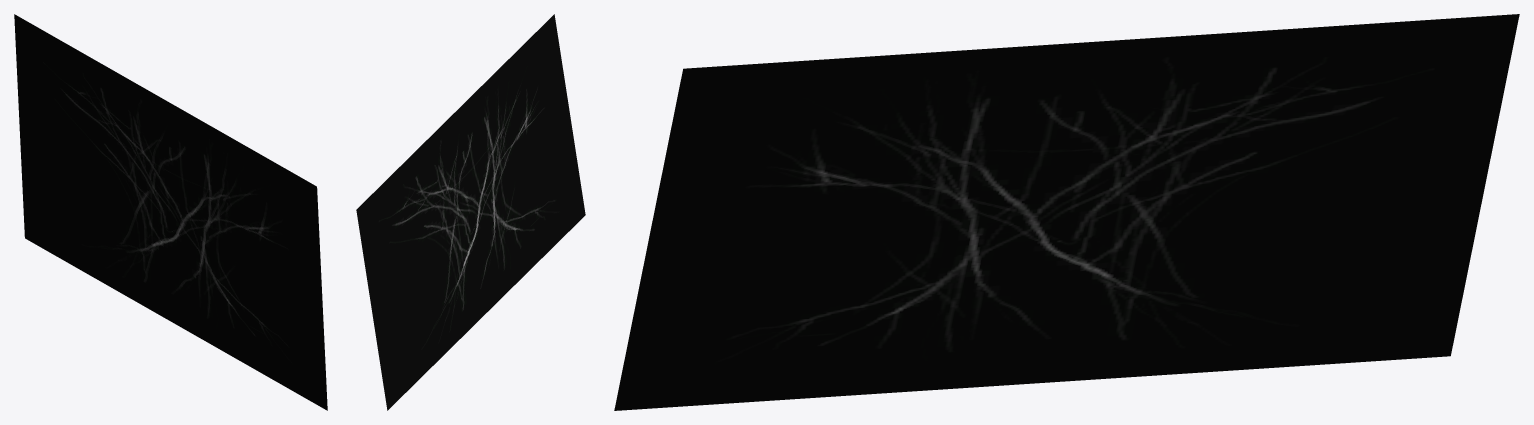
Rendered from MIRKWOOD_WEB_DECOR02.fbx.
The picture shows the model from 3 angles, left to right: view 1: azimuth 30°, elevation 25°; view 2: azimuth 150°, elevation 25°; view 3: azimuth 270°, elevation 25°; orthographic projection. The views are drawn at different scales.
Visible parts, largest first — view 1: MIRKWOOD_WEB_DECOR02; view 2: MIRKWOOD_WEB_DECOR02; view 3: MIRKWOOD_WEB_DECOR02.
Boxes of the visible parts, x1,y1,x2,y2 form: MIRKWOOD_WEB_DECOR02: [14, 14, 327, 410]; MIRKWOOD_WEB_DECOR02: [356, 14, 585, 410]; MIRKWOOD_WEB_DECOR02: [614, 14, 1519, 410].
Bounding box in the file's own units: 12671 × 39369 × 89959.
Materials: 1 (1 with a texture image).
